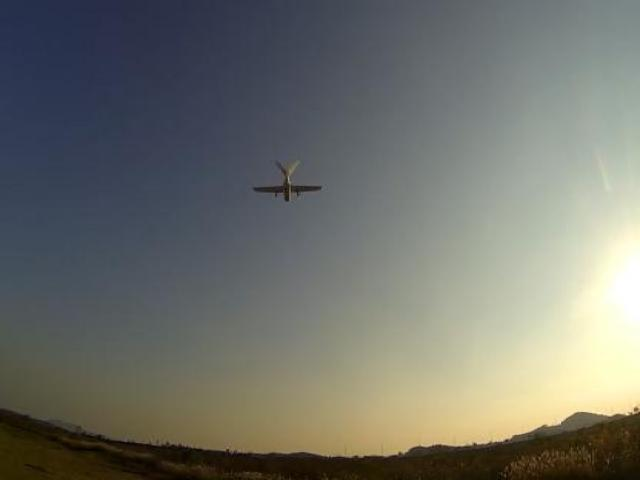uav: (249, 148, 326, 206)
